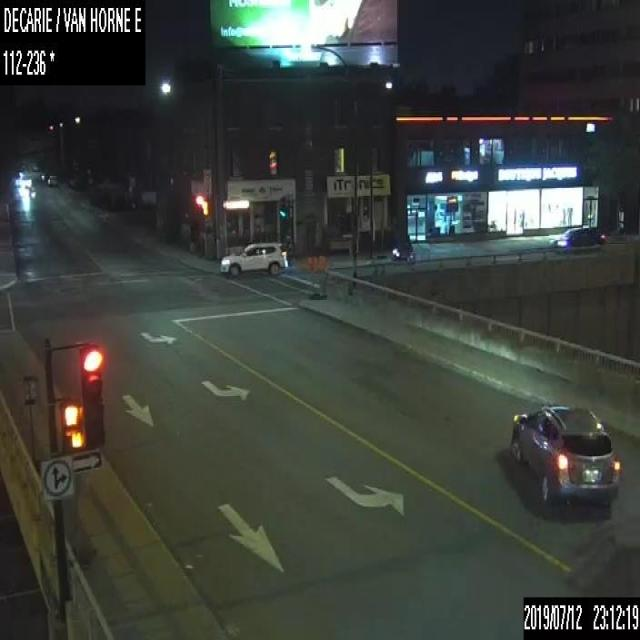construction: (70, 469, 96, 567), (21, 372, 40, 475), (306, 254, 318, 298), (318, 254, 328, 299)
vehicle: (511, 408, 619, 504), (219, 240, 287, 275), (549, 223, 605, 252), (392, 234, 414, 264), (46, 174, 57, 186)
